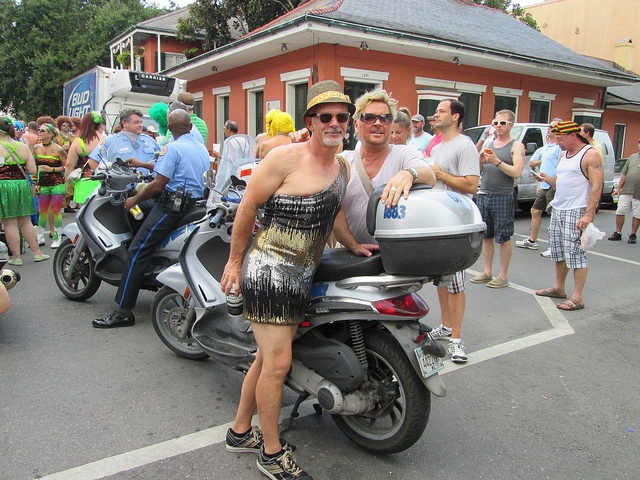non-vehicle: (150, 169, 487, 452), (52, 144, 209, 302)
